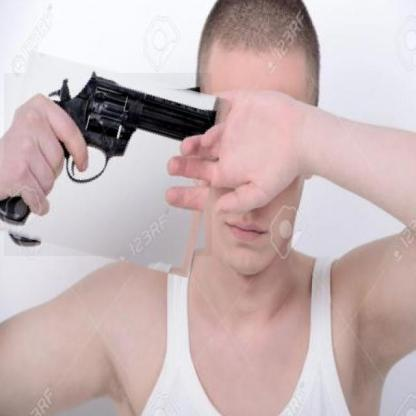handgun: (0, 61, 222, 267)
